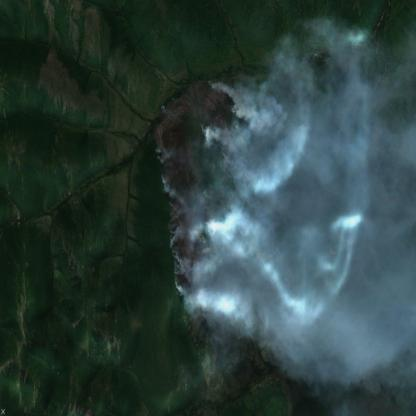fire: (149, 65, 254, 334)
